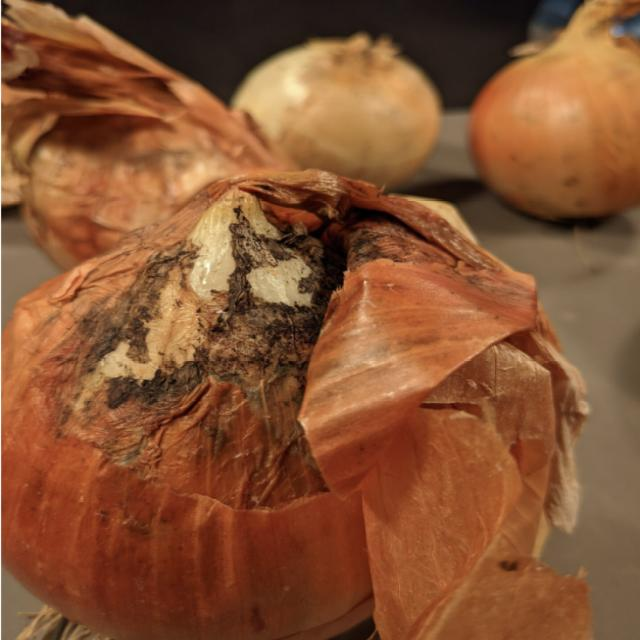mechanical_damage: (3, 171, 590, 639)
